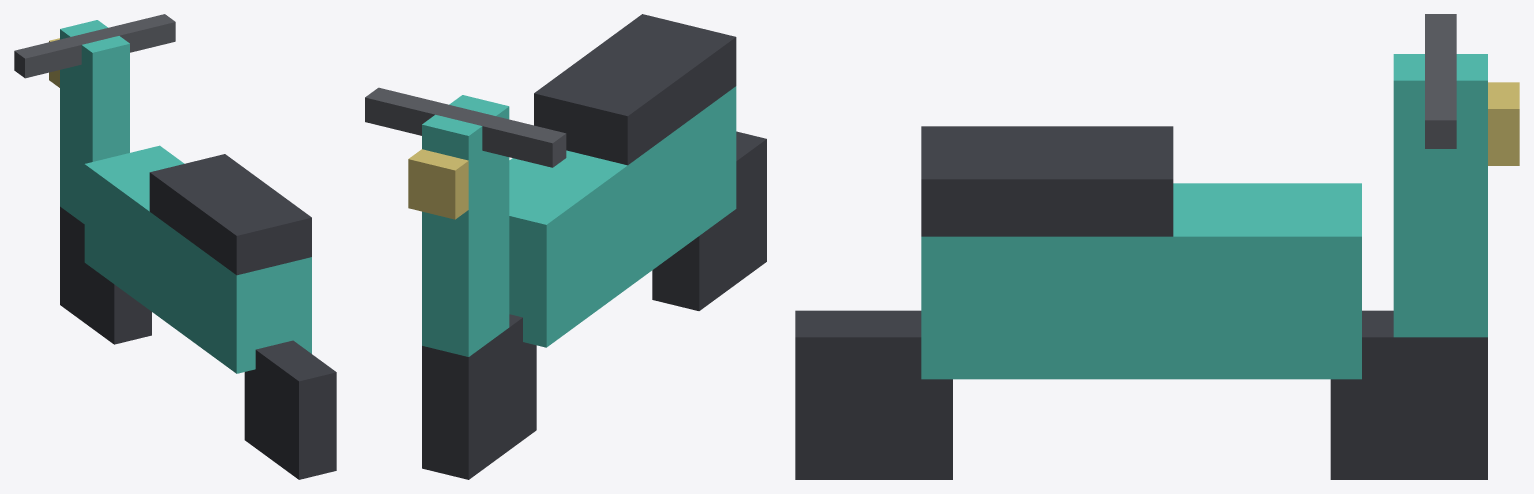
File: scooter.glb
The picture shows the model from 3 angles, left to right: view 1: azimuth 30°, elevation 25°; view 2: azimuth 150°, elevation 25°; view 3: azimuth 270°, elevation 25°; orthographic projection. The views are drawn at different scales.
Visible parts, largest first — view 1: main; view 2: main; view 3: main.
Boxes of the visible parts, x1,y1,x2,y2 form: main: (14, 14, 336, 479); main: (365, 14, 766, 479); main: (795, 14, 1519, 479).
Size of the model in its own units: 0.5 by 0.875 by 1.44.
